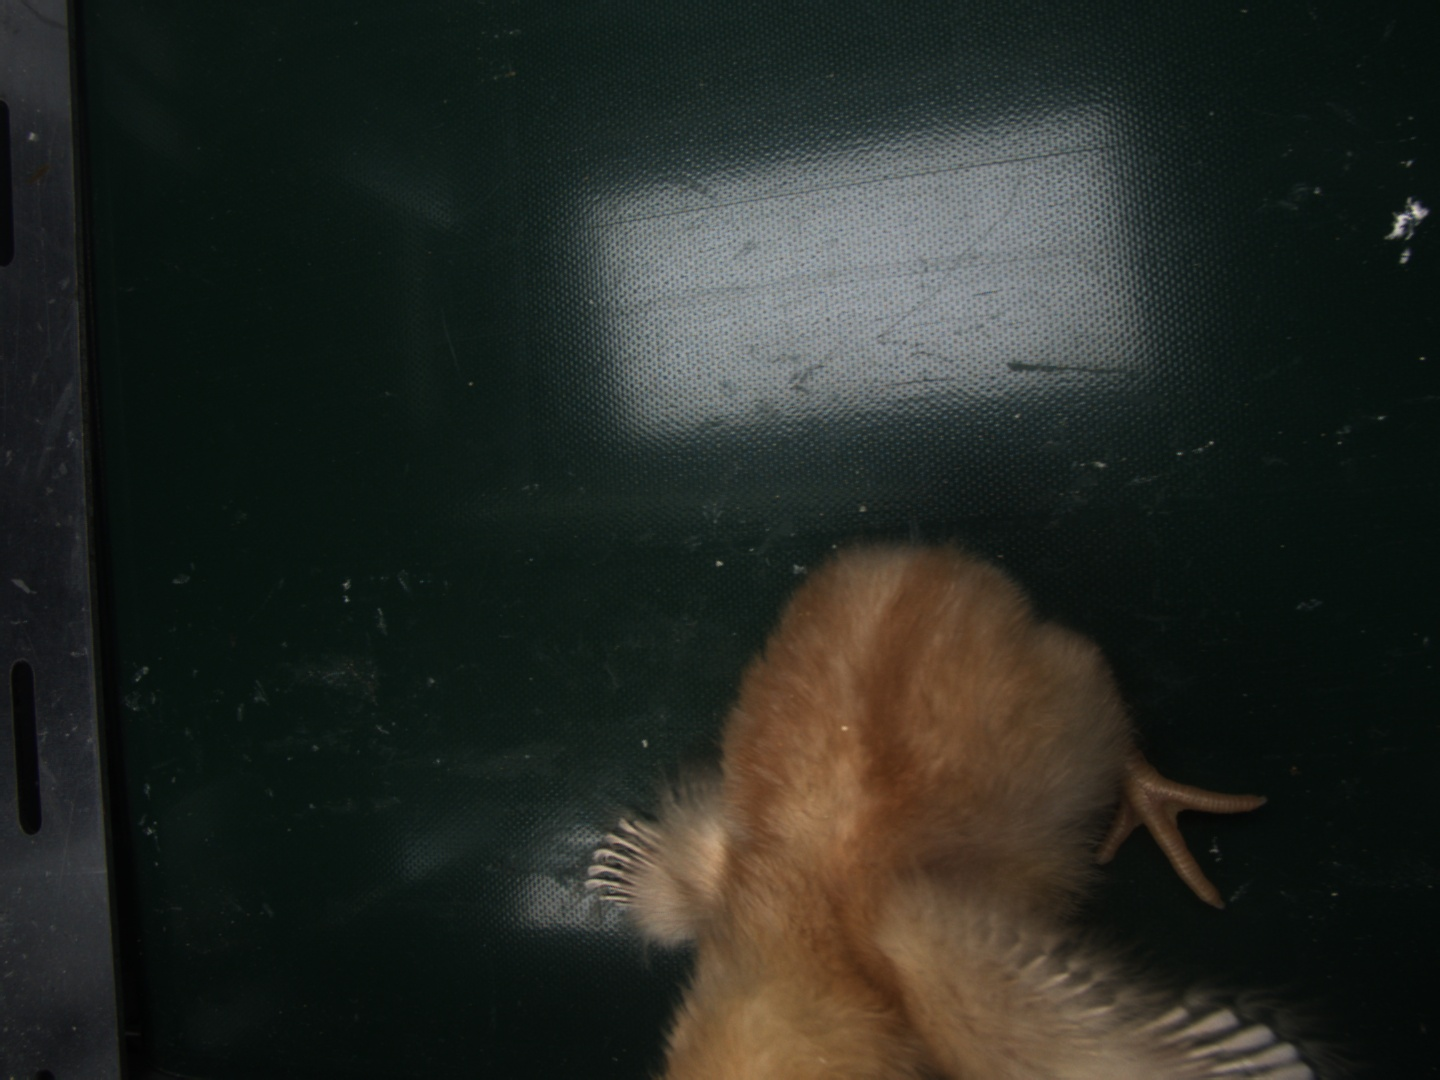female: (581, 816, 669, 906)
